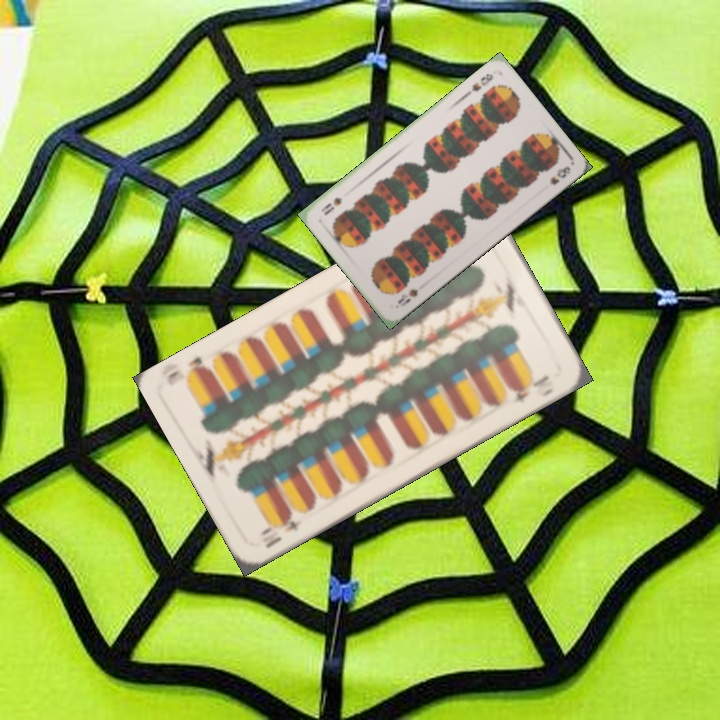E10: (256, 509, 305, 538)
S8: (467, 69, 496, 94), (393, 285, 421, 309)
